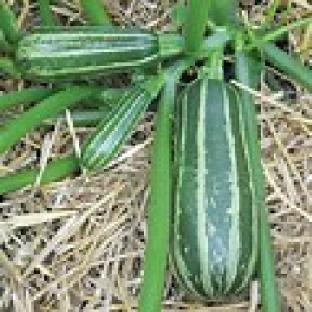Zucchini: (172, 76, 257, 299), (81, 73, 163, 168), (16, 26, 158, 78)
